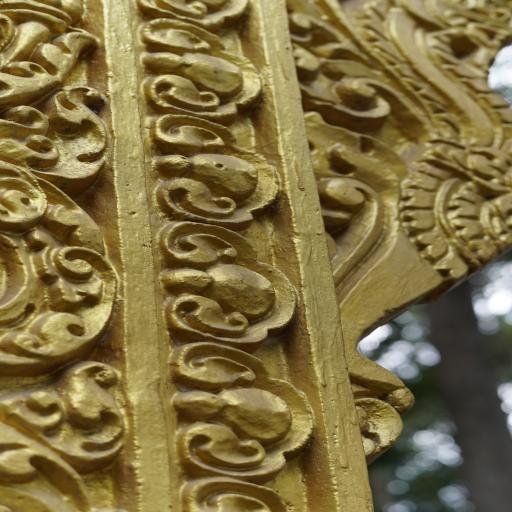la: (0, 164, 120, 384), (0, 0, 118, 187), (164, 341, 306, 480), (150, 216, 295, 351), (0, 364, 138, 502), (142, 112, 279, 226), (133, 15, 268, 118), (173, 471, 268, 512), (132, 0, 255, 27)
ran: (283, 0, 512, 472)
